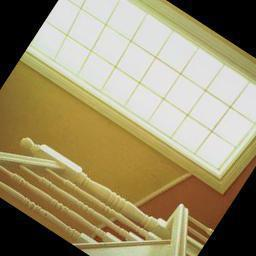Escaleras: (0, 97, 204, 256)
